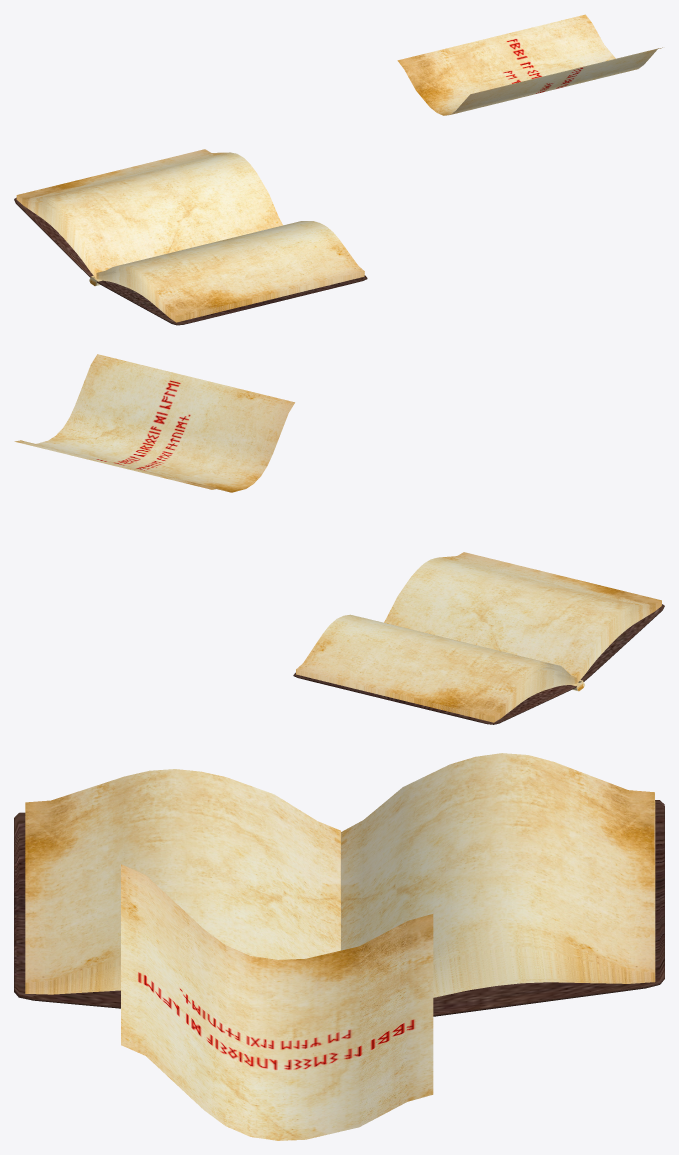
3 renders of one model, top to bottom at view 1: azimuth 30°, elevation 25°; view 2: azimuth 150°, elevation 25°; view 3: azimuth 270°, elevation 25°, orthographic. The views are drawn at different scales.
Visible parts, largest first — view 1: page35, page36, page76, book_cover_rightside, book_cover_leftside; view 2: page36, page76, page35, book_cover_leftside, book_cover_rightside; view 3: page36, page35, page76, book_cover_leftside, book_cover_rightside, page32, page34, page0, page1, page18, page33.
Boxes of the visible parts, box(x1,y1,x2,y2) form: page35: box(17, 149, 282, 273); page36: box(397, 14, 662, 115); page76: box(97, 221, 364, 317); book_cover_rightside: box(97, 275, 367, 325); book_cover_leftside: box(14, 197, 93, 277); page36: box(14, 354, 294, 492); page76: box(384, 552, 661, 676); page35: box(296, 614, 575, 717); book_cover_leftside: box(293, 672, 576, 724); book_cover_rightside: box(580, 604, 664, 681); page36: box(121, 864, 433, 1140); page35: box(341, 753, 654, 973); page76: box(25, 769, 340, 983); book_cover_leftside: box(433, 800, 664, 1016); book_cover_rightside: box(14, 812, 120, 1008); page32: box(433, 942, 653, 973); page34: box(433, 934, 653, 973); page0: box(433, 979, 654, 997); page1: box(433, 801, 655, 994); page18: box(433, 956, 653, 977); page33: box(433, 938, 654, 973).
Bounding box in the file's own units: 38.01 × 10.71 × 21.08.
